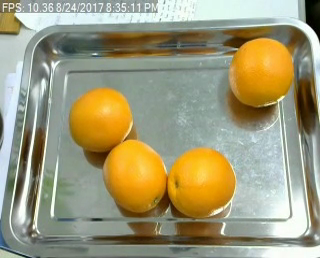Orange: (167, 147, 234, 217), (101, 140, 166, 211), (230, 37, 294, 106), (68, 88, 133, 151)
